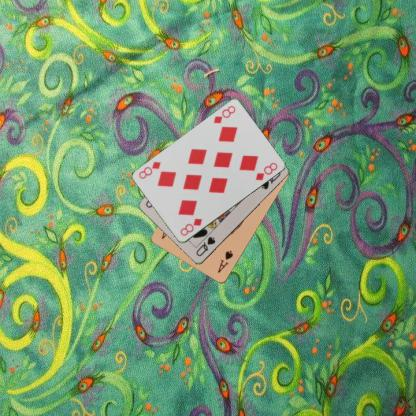8d: (178, 216, 204, 238), (211, 103, 237, 125)
As: (215, 248, 235, 274)
Qs: (194, 234, 216, 258)
